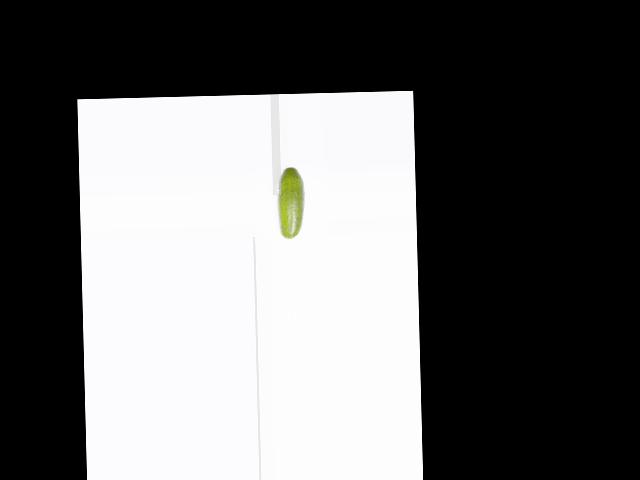cucumber: (276, 165, 306, 239)
